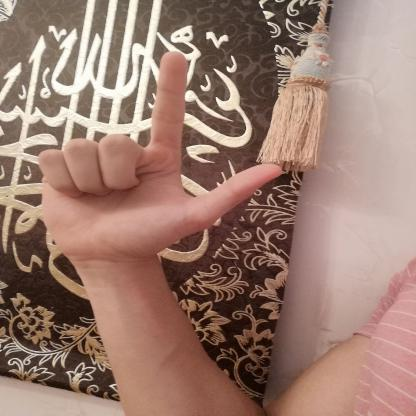LAAM: (16, 40, 294, 274)
